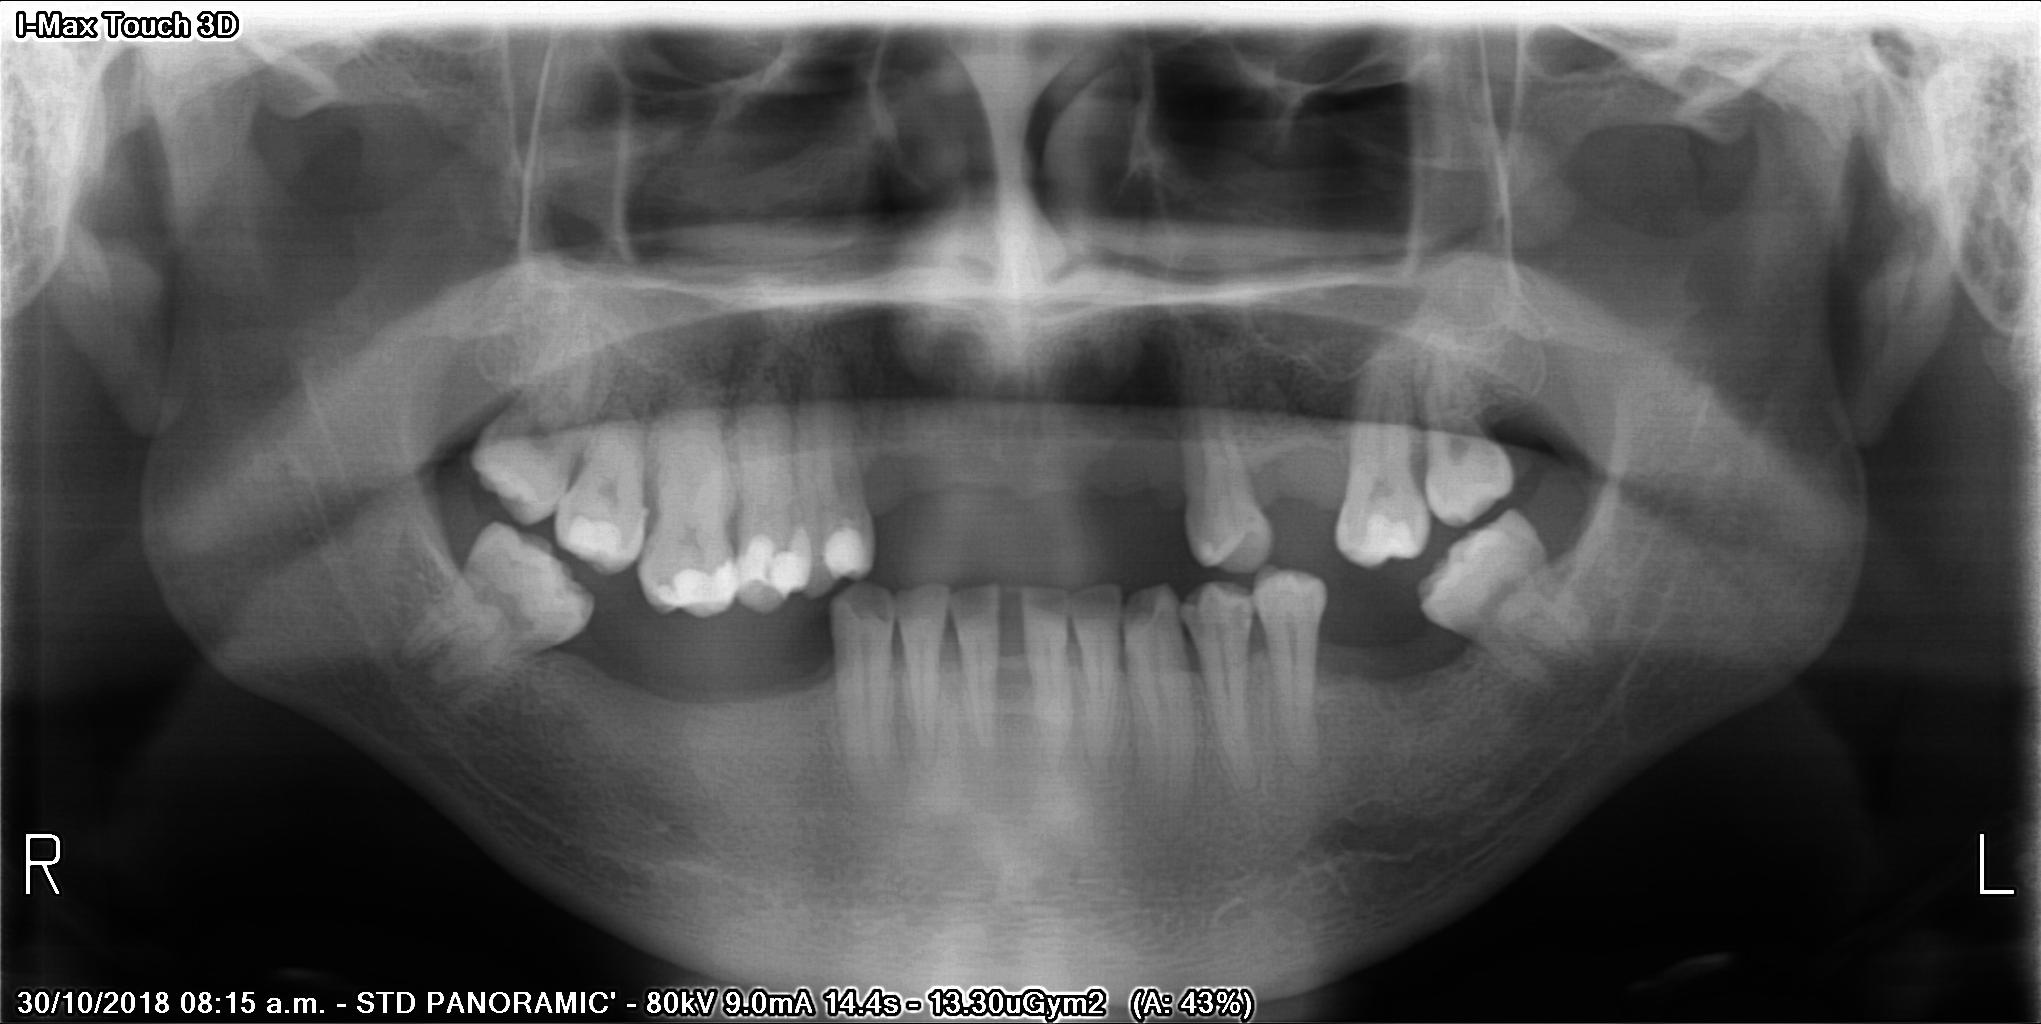Çürük: (737, 530, 817, 596), (1428, 466, 1515, 524), (562, 510, 645, 566), (1334, 516, 1424, 564), (660, 562, 736, 610), (824, 525, 868, 576)
